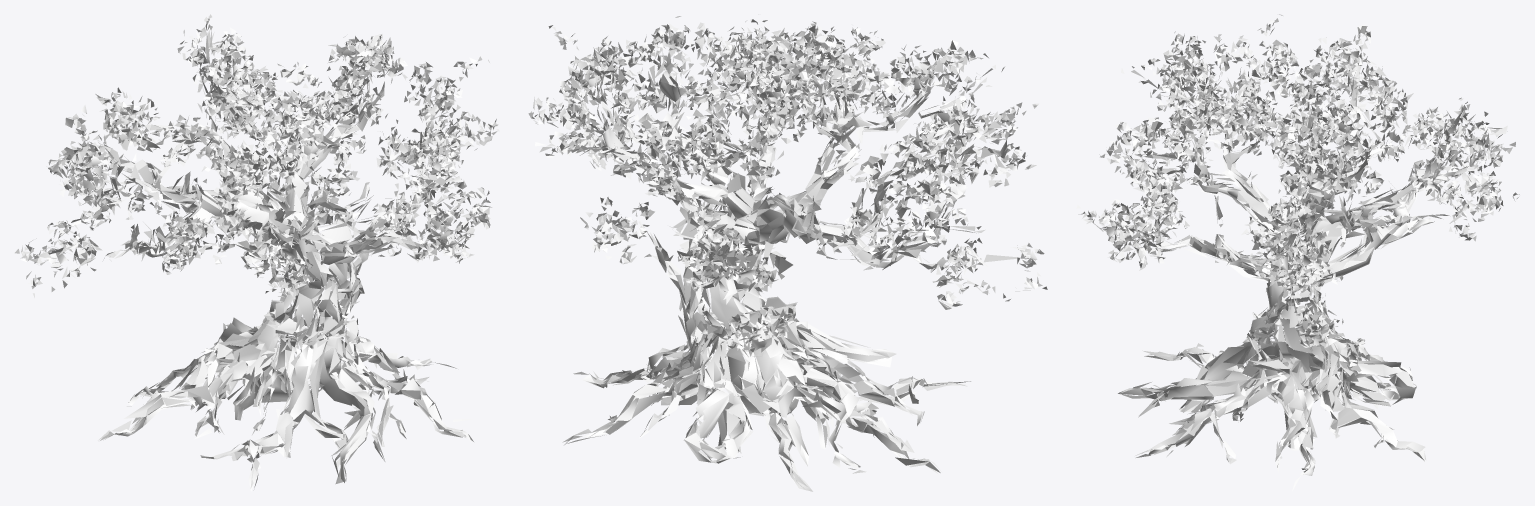
File: sakura_great_lod2.glb
3 views of the same model, side by side, from view 1: azimuth 30°, elevation 25°; view 2: azimuth 150°, elevation 25°; view 3: azimuth 270°, elevation 25° (orthographic). The views are drawn at different scales.
Visible parts, largest first — view 1: Mesh_0; view 2: Mesh_0; view 3: Mesh_0.
Part boxes in pixels (x1=…): Mesh_0: x1=15, y1=14, x2=499, y2=491; Mesh_0: x1=528, y1=14, x2=1047, y2=491; Mesh_0: x1=1076, y1=14, x2=1519, y2=490.
Bounding box in the file's own units: 11.18 × 8.53 × 9.46.
Materials: 1 (1 with a texture image).
